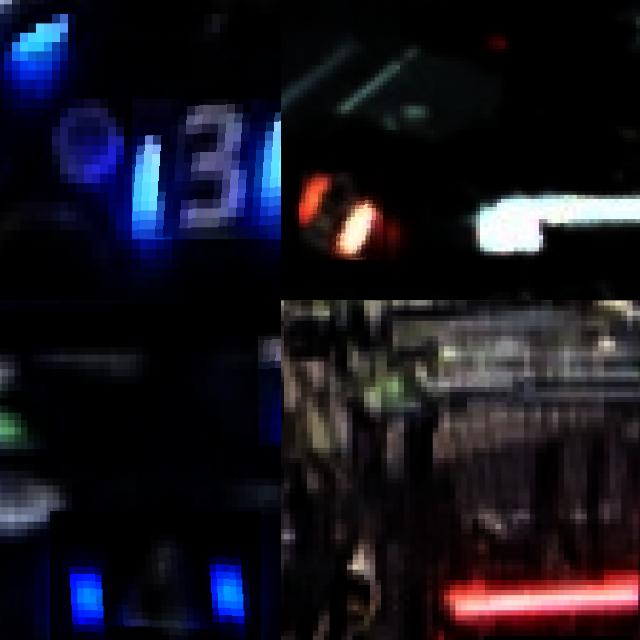B3: (132, 98, 281, 239)
B4: (50, 510, 261, 640)
Rs: (299, 170, 383, 260)
